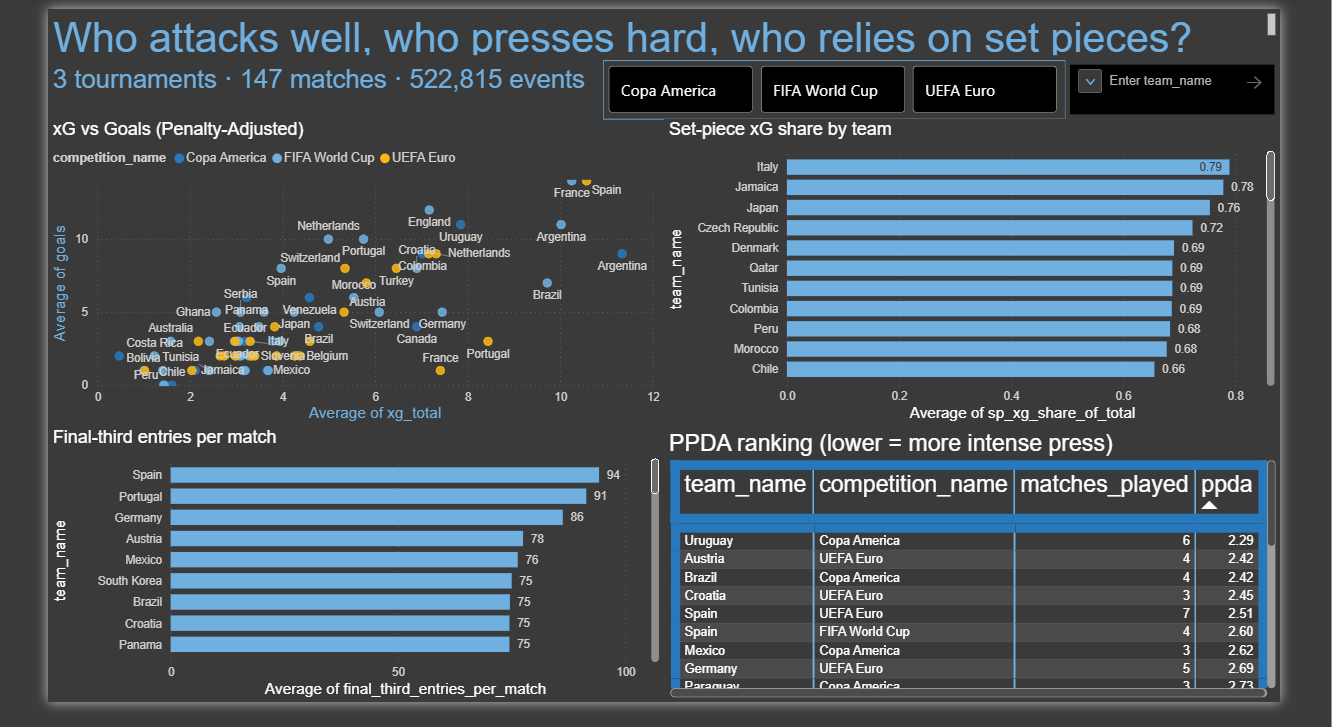

This screenshot's page, from the dashboard's own definition file:
{"tool":"powerbi","page":{"name":"Tournament Overview","canvas":[1280,720],"ordinal":0},"visuals":[{"type":"advancedSlicerVisual","fields":{"Values":["dim_team_competition.competition_name"]},"box":[576.7,52.8,481,61.4],"z":0},{"type":"textSlicer","fields":{"Values":["dim_team_competition.team_name"]},"box":[1057.7,52.8,222.1,61.4],"z":1000},{"type":"scatterChart","title":"xG vs Goals (Penalty-Adjusted)","fields":{"Y":["Avg(mart_team_attack_quality.goals)"],"X":["Avg(mart_team_attack_quality.xg_total)"],"Series":["mart_team_attack_quality.competition_name"],"Category":["mart_team_attack_quality.team_name"]},"box":[0,114.1,640.5,319],"z":2000},{"type":"clusteredBarChart","title":"Set-piece xG share by team","fields":{"Category":["mart_team_set_piece_effectiveness.team_name","mart_team_set_piece_effectiveness.competition_name"],"Y":["Avg(mart_team_set_piece_effectiveness.sp_xg_share_of_total)"]},"box":[640.5,114.1,639.3,319],"z":3000},{"type":"tableEx","title":"PPDA ranking (lower = more intense press)","fields":{"Values":["mart_team_defensive_pressure.team_name","mart_team_defensive_pressure.competition_name","mart_team_defensive_pressure.matches_played","mart_team_defensive_pressure.ppda"]},"box":[640,437.6,640,282.2],"z":4000},{"type":"barChart","title":"Final-third entries per match","fields":{"Category":["mart_team_ball_progression.team_name","mart_team_ball_progression.competition_name"],"Y":["Avg(mart_team_ball_progression.final_third_entries_per_match)"]},"box":[0,433.3,640,286.5],"z":5000},{"type":"textbox","box":[0,0,1280,52.7],"z":6000},{"type":"textbox","box":[0,52.8,576.7,61.4],"z":7000}]}

Visuals, with their boxes on the page's 1280x720 design canvas (x1, y1, x2, y2). These are canvas units, not pixel positions in the 1332x727 screenshot, which may show the page scaled, cropped or inside an application window:
advancedSlicerVisual - dim_team_competition.competition_name: {"x1": 577, "y1": 53, "x2": 1058, "y2": 114}
textSlicer - dim_team_competition.team_name: {"x1": 1058, "y1": 53, "x2": 1280, "y2": 114}
"xG vs Goals (Penalty-Adjusted)" scatterChart: {"x1": 0, "y1": 114, "x2": 640, "y2": 433}
"Set-piece xG share by team" clusteredBarChart: {"x1": 640, "y1": 114, "x2": 1280, "y2": 433}
"PPDA ranking (lower = more intense press)" tableEx: {"x1": 640, "y1": 438, "x2": 1280, "y2": 720}
"Final-third entries per match" barChart: {"x1": 0, "y1": 433, "x2": 640, "y2": 720}
textbox: {"x1": 0, "y1": 0, "x2": 1280, "y2": 53}
textbox: {"x1": 0, "y1": 53, "x2": 577, "y2": 114}
